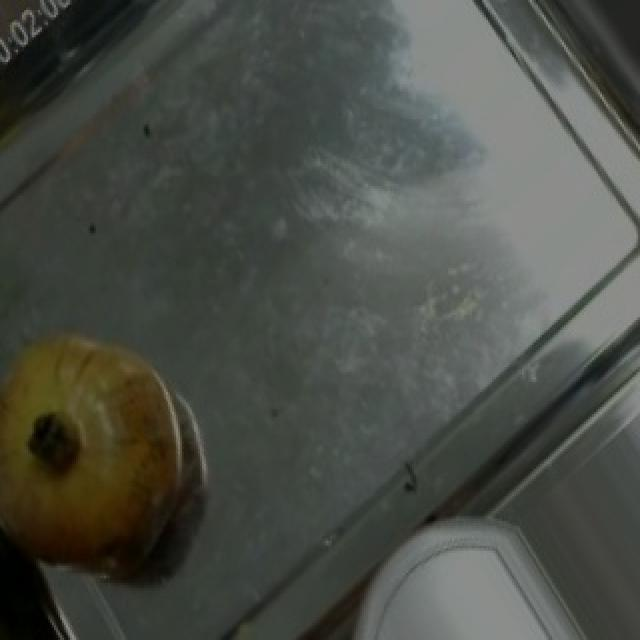fruit: (0, 308, 218, 600), (360, 516, 602, 640)
